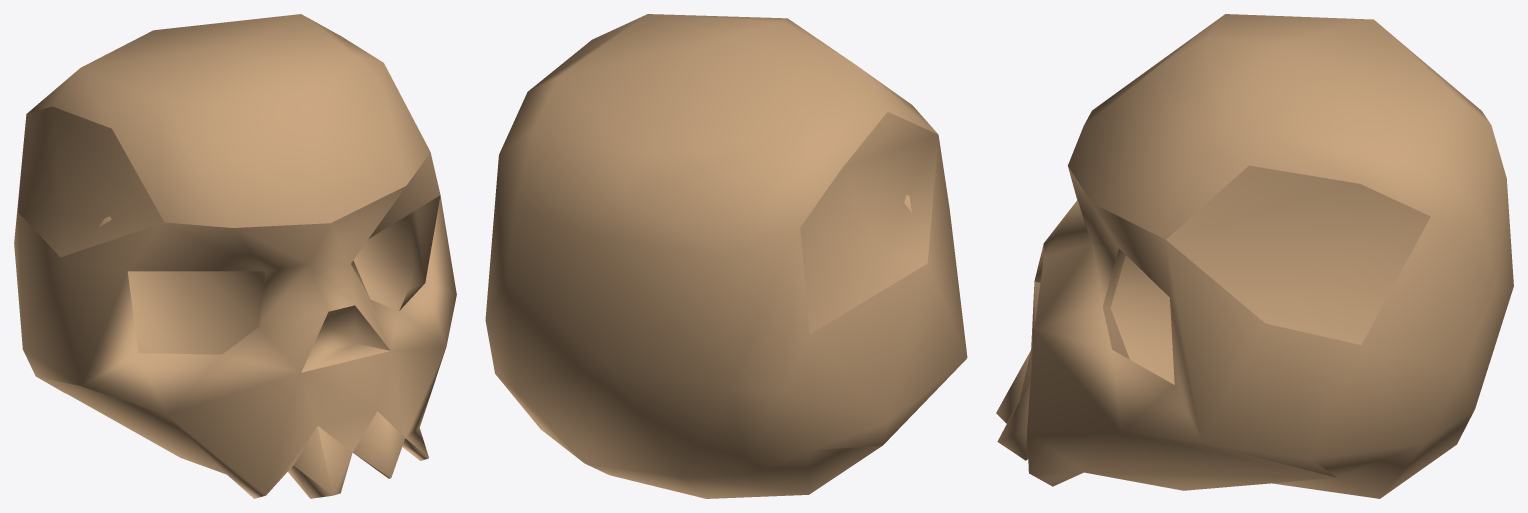
The model's file is Environment_Skulls.low.gltf.
The picture shows the model from 3 angles, left to right: view 1: azimuth 30°, elevation 25°; view 2: azimuth 150°, elevation 25°; view 3: azimuth 270°, elevation 25°; orthographic projection. The views are drawn at different scales.
Parts seen in each view (by area): view 1: Environment_Skulls; view 2: Environment_Skulls; view 3: Environment_Skulls.
Part boxes in pixels (x1,y1,x2,y2): Environment_Skulls: (14,14,456,498); Environment_Skulls: (485,14,967,498); Environment_Skulls: (996,14,1513,498).
Bounding box in the file's own units: 4.05 × 3.76 × 4.42.
1 material, 1 textured.
